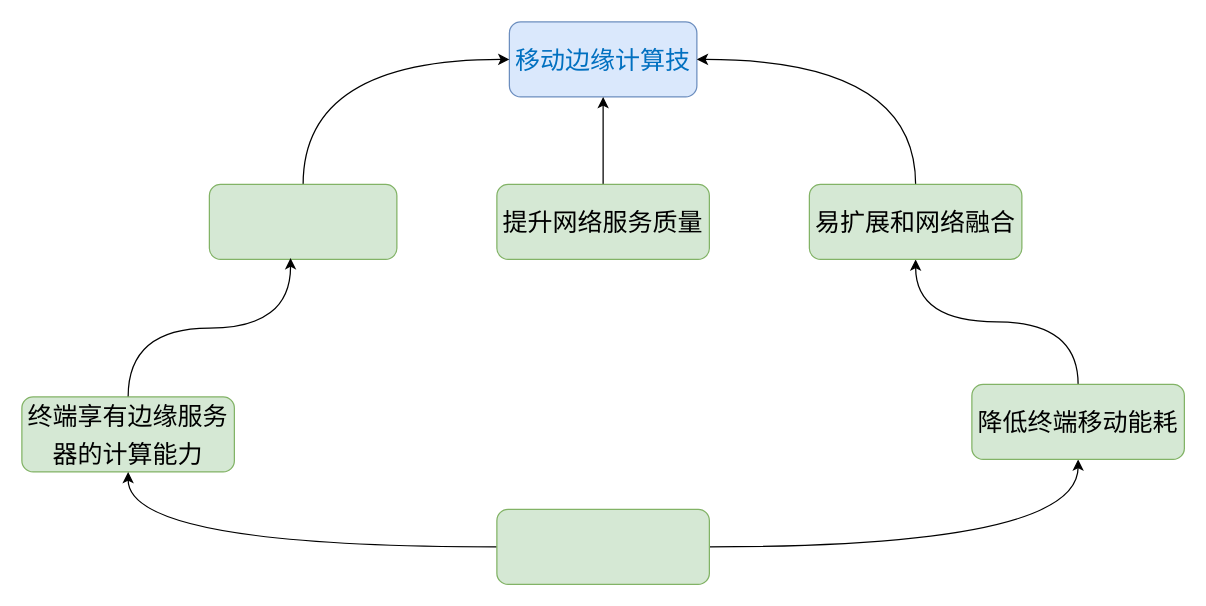
Image size: 1206x606. Some labels were removed from this diagram. Here are the shapes that lost their labels. From the top down, the centre of each, then its label:
[302,221]: 节约通信资源
[602,546]: 终端享有边缘服务器的存储能力
